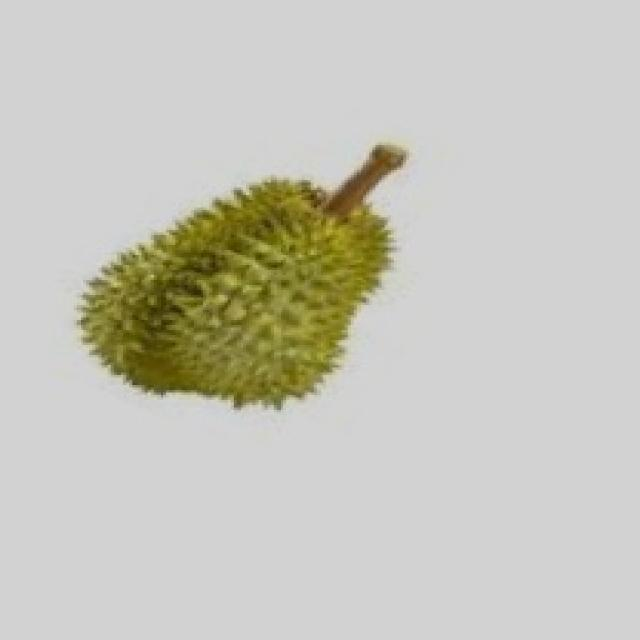fruit: (43, 140, 422, 458)
